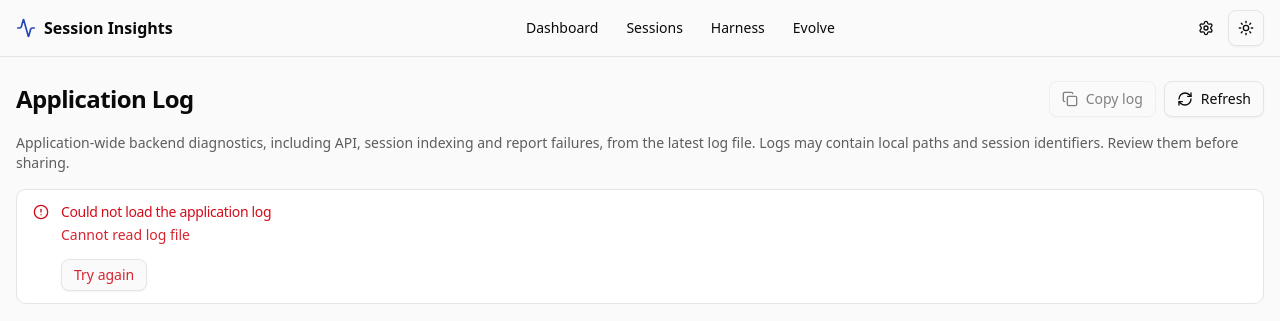
Test case: Application Log › shows read failures and retries instead of showing an empty log
This screenshot has width=1280, height=321.
Expected: the text "Cannot read log file" is shown, [61,224,190,247]
Click the button "Try again" at (104, 275), box [61,259,147,291]
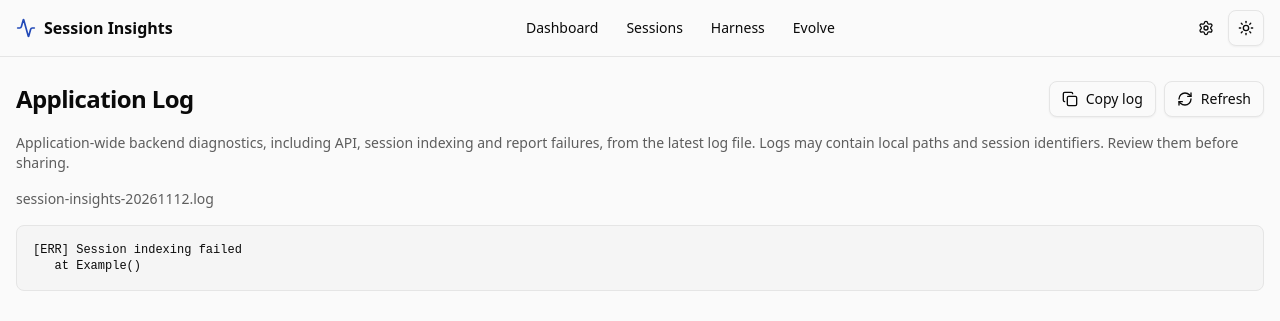
Result: the text named "Application log contents" shows "Session indexing failed" at [33,243,242,273]
